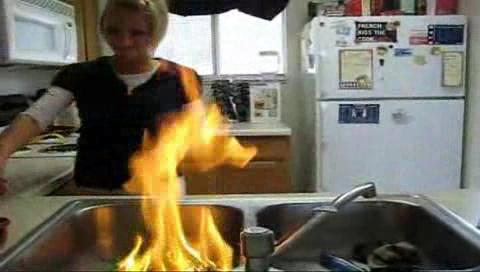fire: (122, 97, 261, 270)
